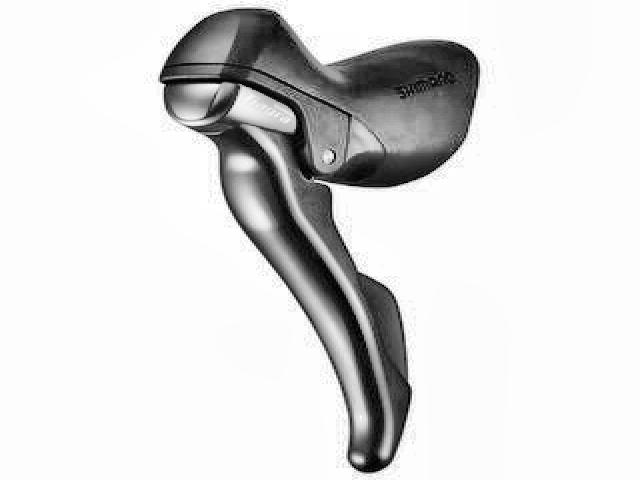sti_shifter: (158, 5, 478, 472)
